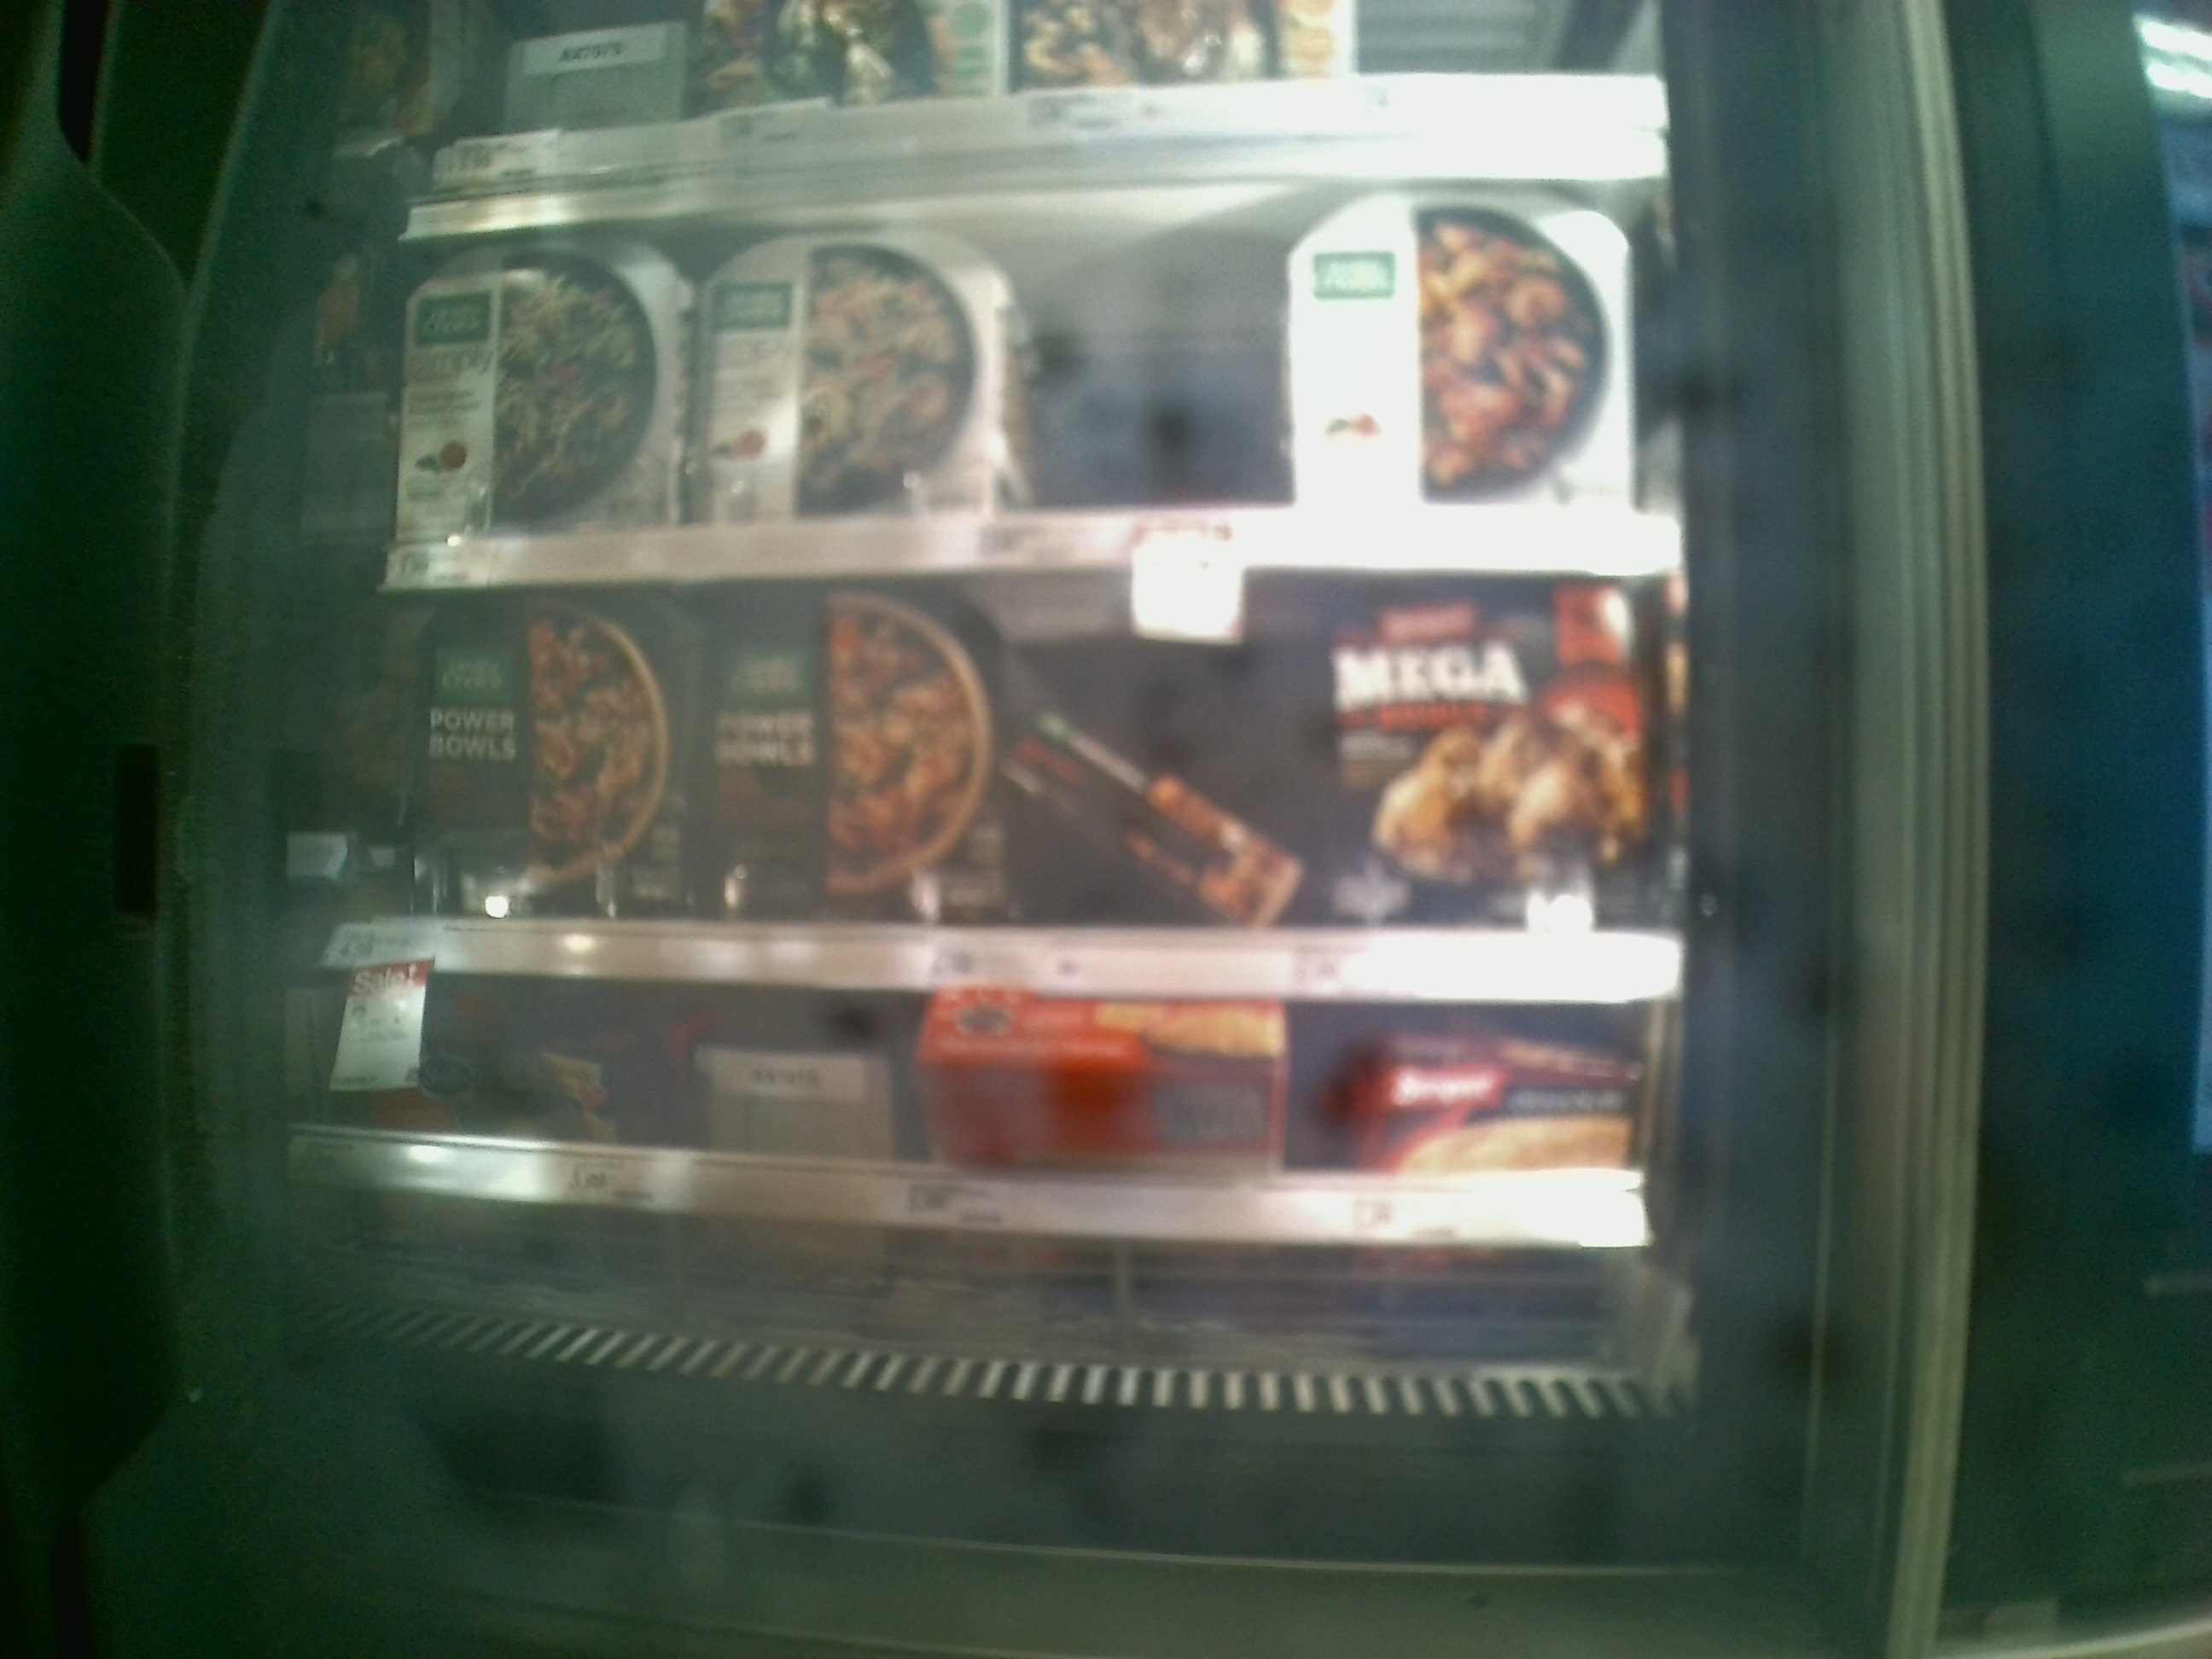shelf: (378, 598, 1686, 999), (409, 176, 1684, 580)
